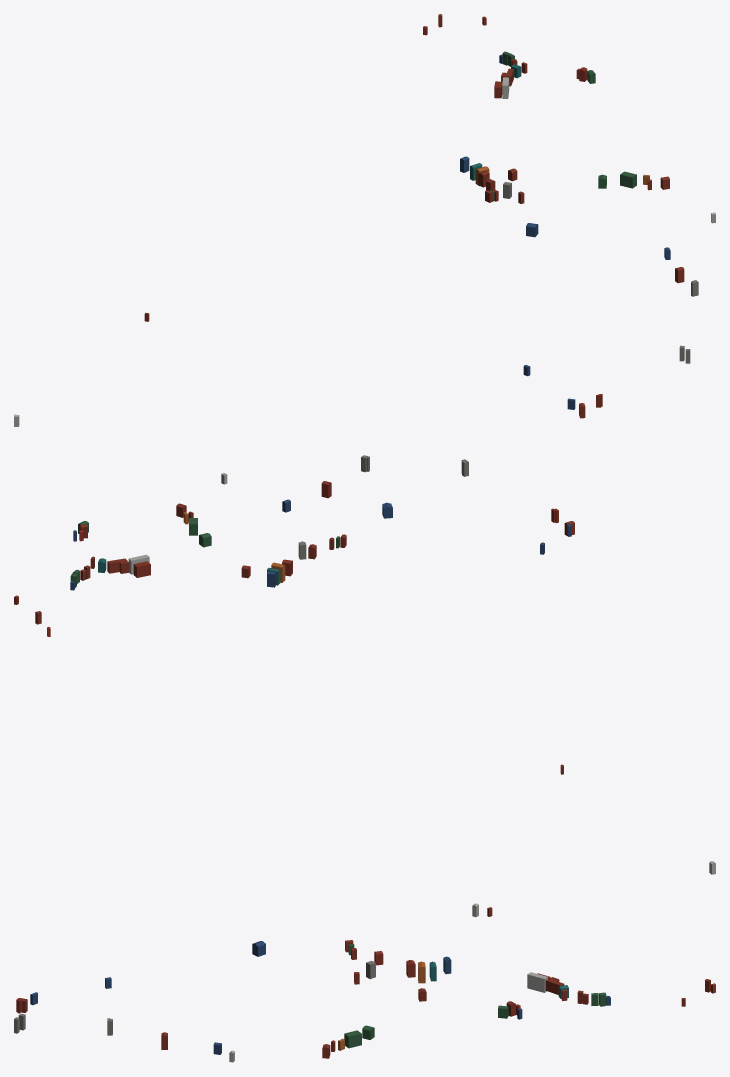
The model's file is near-15-27356-14865.fea0e779.glb.
3 views of the same model, one above another, from view 1: azimuth 30°, elevation 25°; view 2: azimuth 150°, elevation 25°; view 3: azimuth 270°, elevation 25° (orthographic). The views are drawn at different scales.
Size of the model in its own units: 1153 by 376 by 1117.
